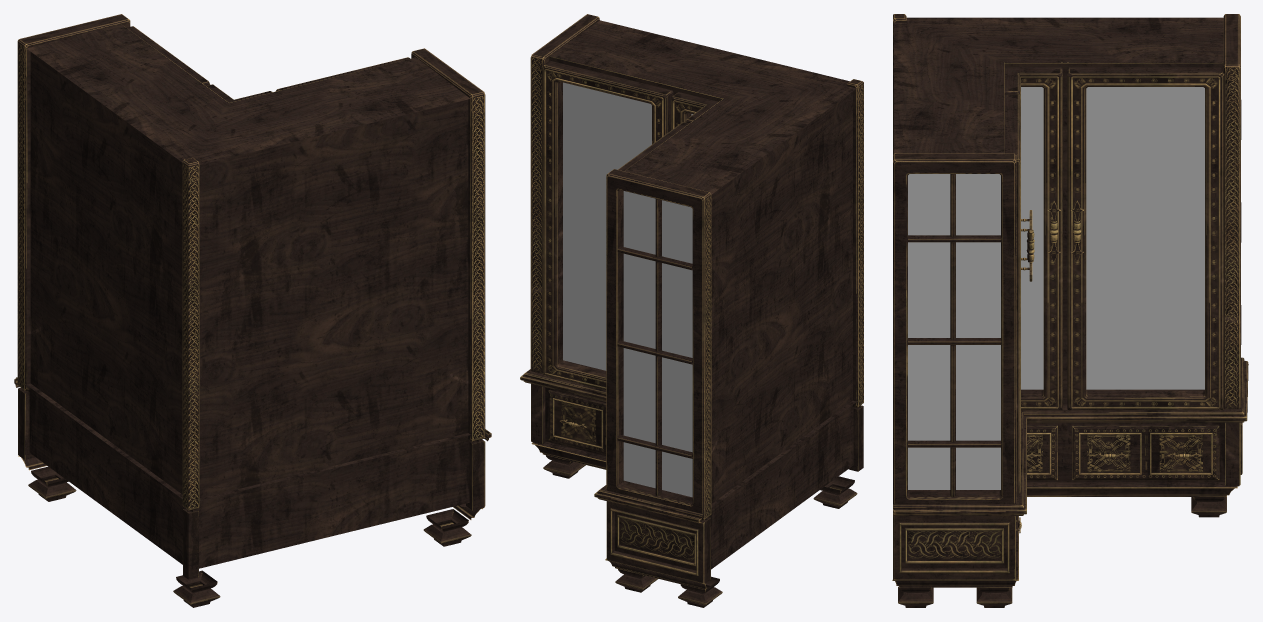
The model's file is SM_Vitrin3_Inward90D.fbx.
3 renders of one model, left to right at view 1: azimuth 30°, elevation 25°; view 2: azimuth 150°, elevation 25°; view 3: azimuth 270°, elevation 25°, orthographic. The views are drawn at different scales.
Visible parts, largest first — view 1: SM_Vitrin3_Inward90D_LOD0; view 2: SM_Vitrin3_Inward90D_LOD0; view 3: SM_Vitrin3_Inward90D_LOD0.
Boxes of the visible parts, x1,y1,x2,y2 form: SM_Vitrin3_Inward90D_LOD0: (14, 14, 491, 607); SM_Vitrin3_Inward90D_LOD0: (520, 14, 863, 607); SM_Vitrin3_Inward90D_LOD0: (892, 14, 1248, 607).
Size of the model in its own units: 164 by 164 by 233.
Materials: 2 (1 with a texture image).
